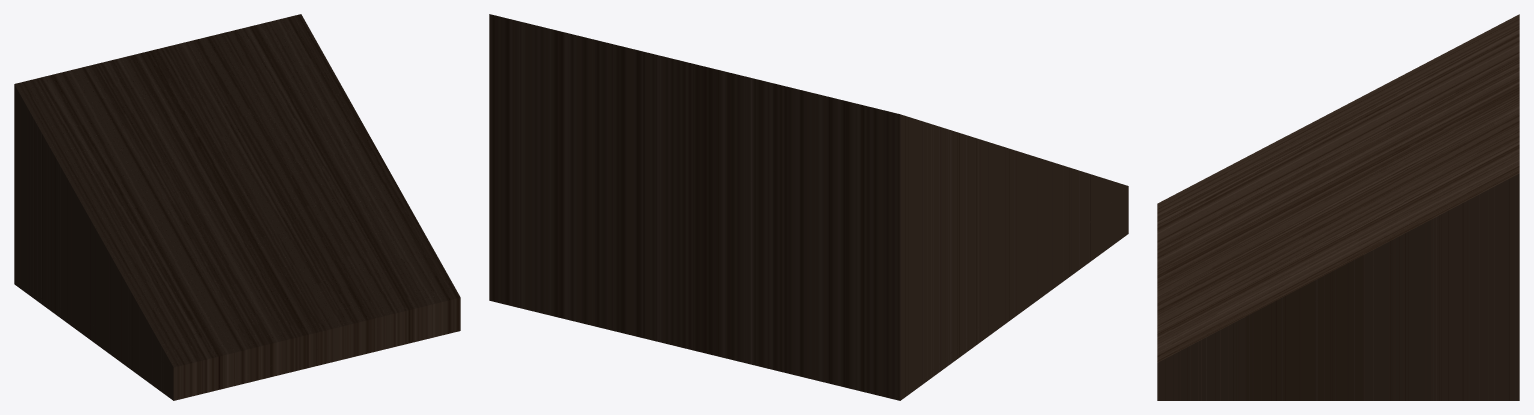
The model's file is wedge_30.glb.
The picture shows the model from 3 angles, left to right: view 1: azimuth 30°, elevation 25°; view 2: azimuth 150°, elevation 25°; view 3: azimuth 270°, elevation 25°; orthographic projection. The views are drawn at different scales.
Parts seen in each view (by area): view 1: wedge_30; view 2: wedge_30; view 3: wedge_30.
Part boxes in pixels (x1,y1,x2,y2): wedge_30: (14,14,460,400); wedge_30: (489,14,1128,400); wedge_30: (1157,14,1519,400).
Size of the model in its own units: 0.36 by 0.24 by 0.3464.
1 material, 1 textured.
